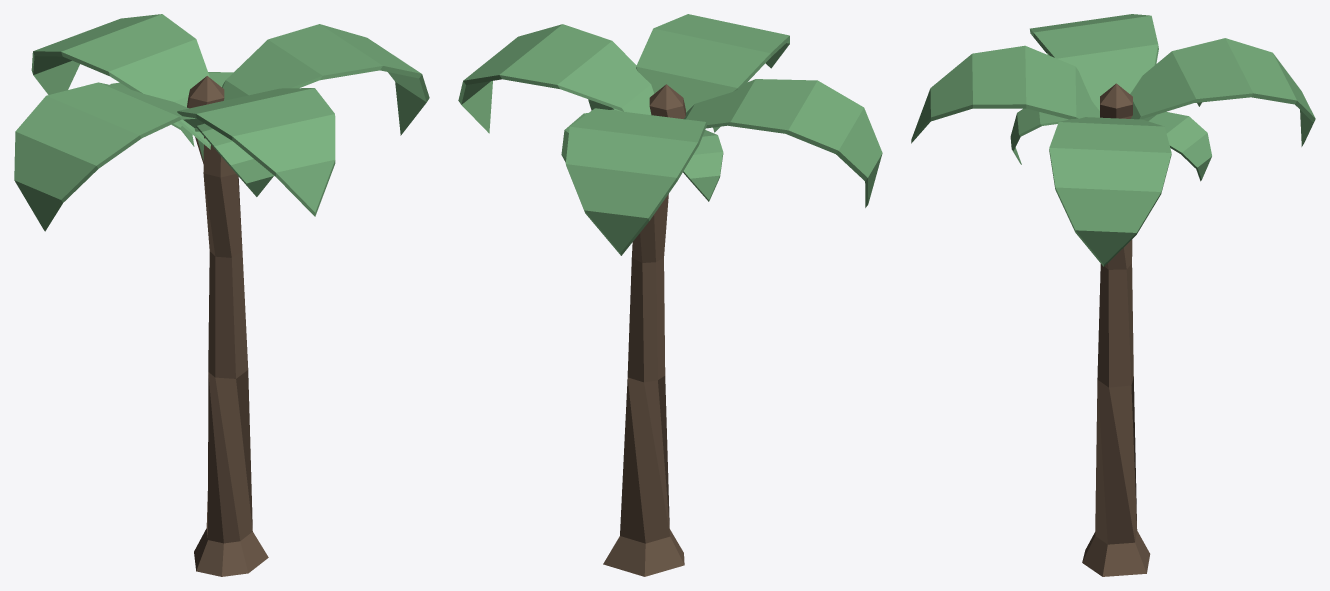
Rendered from Palm_Tree.fbx.
3 renders of one model, left to right at view 1: azimuth 30°, elevation 25°; view 2: azimuth 150°, elevation 25°; view 3: azimuth 270°, elevation 25°, orthographic. The views are drawn at different scales.
Parts seen in each view (by area): view 1: Palm_Tree; view 2: Palm_Tree; view 3: Palm_Tree.
Part boxes in pixels (x1,y1,x2,y2): Palm_Tree: (14, 14, 429, 576); Palm_Tree: (458, 14, 882, 576); Palm_Tree: (911, 14, 1315, 576).
Size of the model in its own units: 4.55 by 5.44 by 4.17.
Materials: 1 (1 with a texture image).
